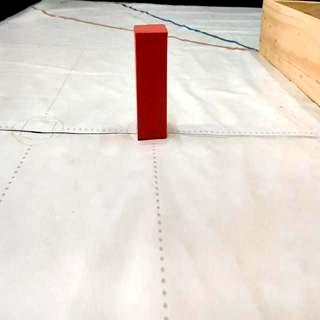redbox: (134, 22, 168, 142)
